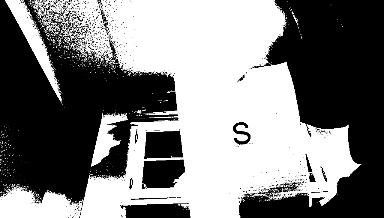S: (228, 118, 254, 146)
